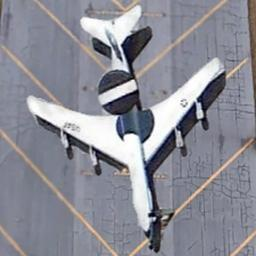Airplane: (25, 4, 227, 252)
